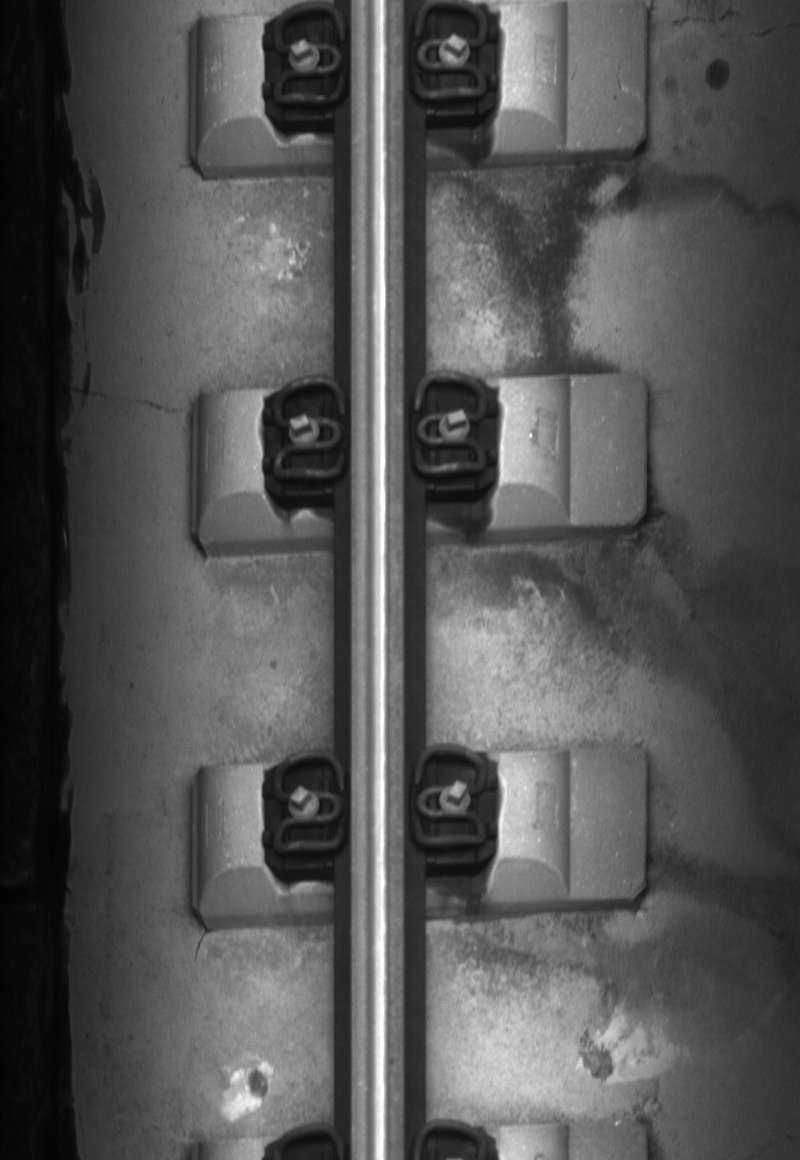l_faster: (266, 370, 351, 486), (268, 746, 350, 859), (268, 1, 349, 110)
r_faster: (408, 365, 493, 484), (406, 0, 495, 107), (409, 742, 491, 853)
